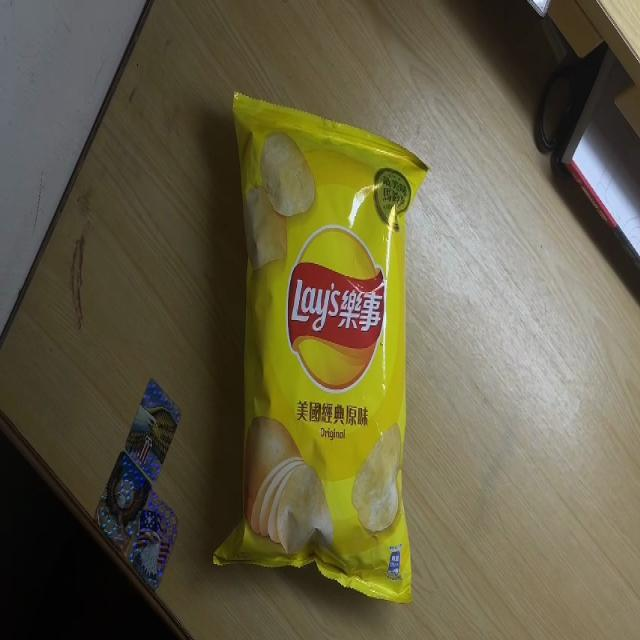Lay-s-original: (214, 92, 428, 608)
